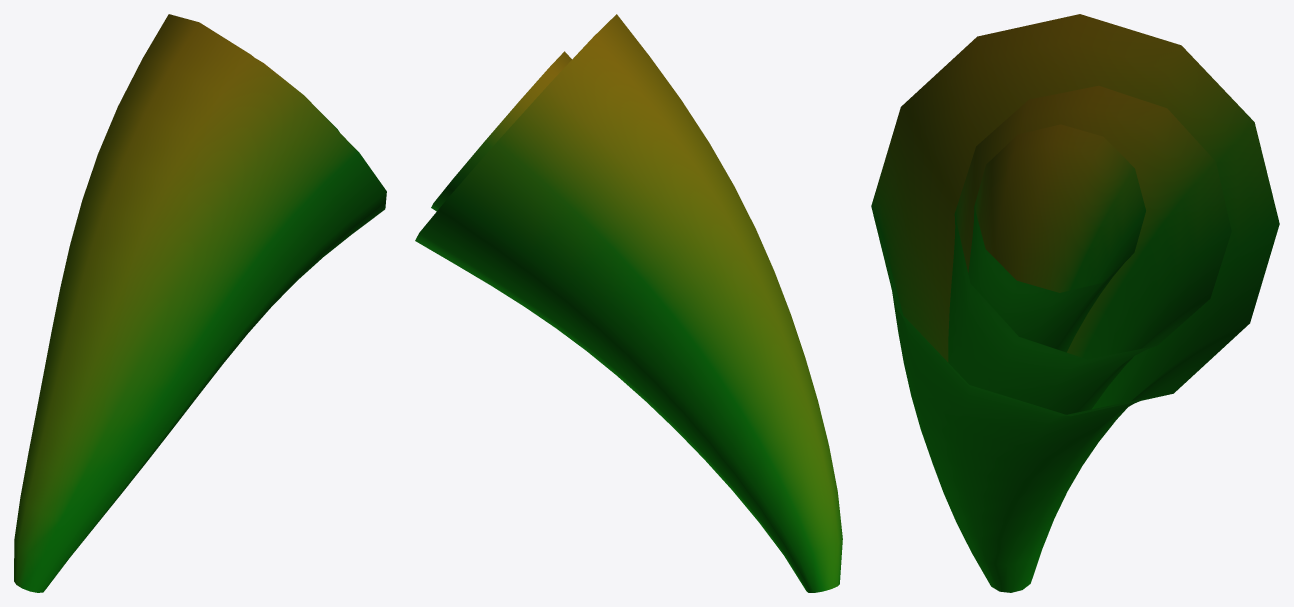
File: smoke_plume.glb
3 views of the same model, side by side, from view 1: azimuth 30°, elevation 25°; view 2: azimuth 150°, elevation 25°; view 3: azimuth 270°, elevation 25° (orthographic). The views are drawn at different scales.
Visible parts, largest first — view 1: smoke_plume; view 2: smoke_plume; view 3: smoke_plume.
Boxes of the visible parts, x1,y1,x2,y2 form: smoke_plume: (14, 14, 386, 592); smoke_plume: (415, 14, 842, 592); smoke_plume: (871, 14, 1279, 592).
Size of what is drawn, in the model's own units: 11.47 by 15.28 by 8.05.
